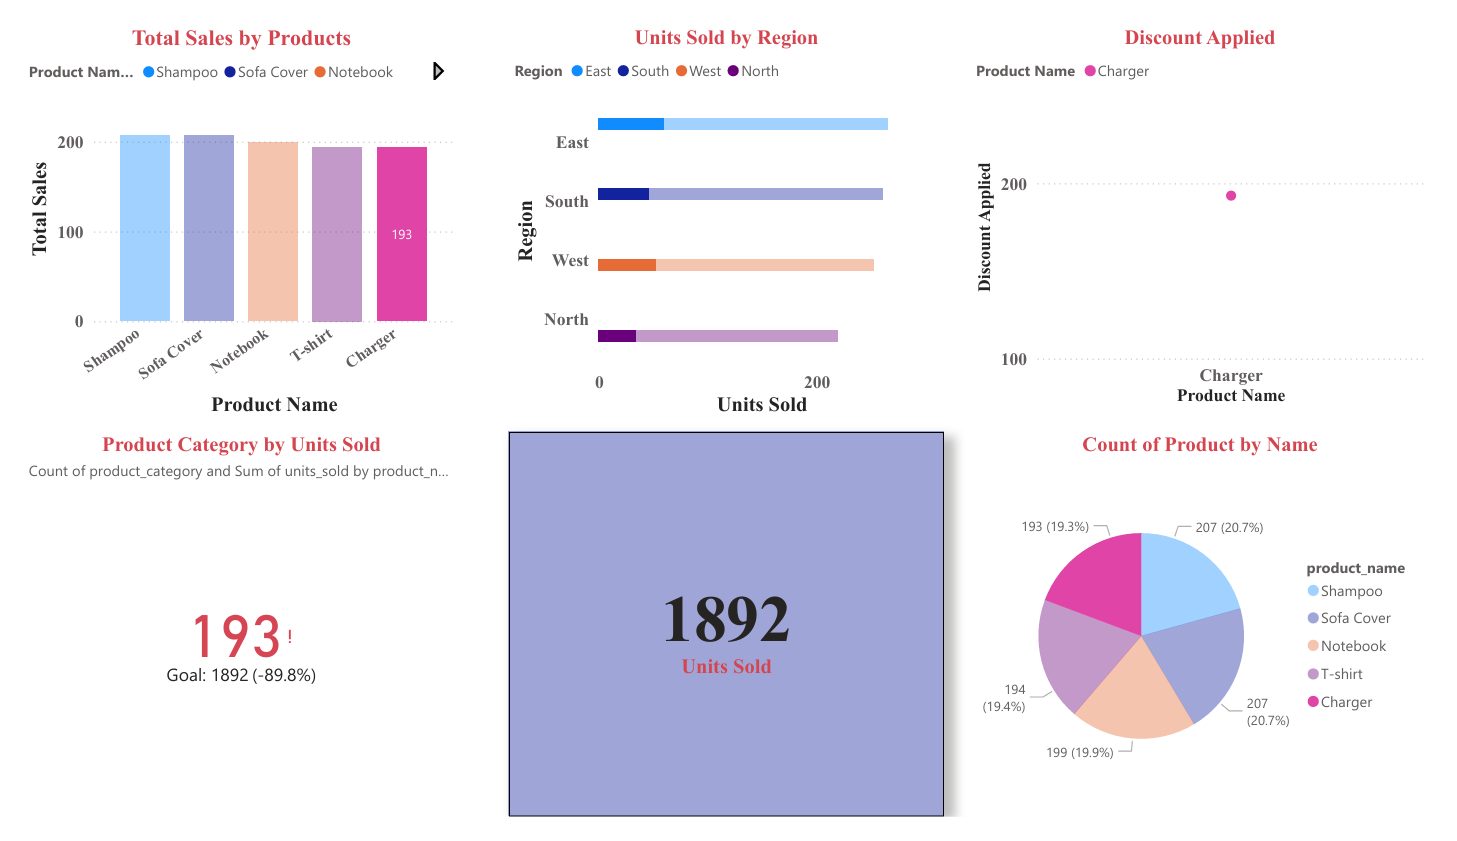

What the dashboard file says about the page in this screenshot:
{"tool":"powerbi","page":{"name":"Page 1","canvas":[1280,720],"ordinal":0},"visuals":[{"type":"columnChart","title":"Total Sales by Products","fields":{"Y":["CountNonNull(Retail_Dataset.total_sale)"],"Category":["Retail_Dataset.product_name"],"Series":["Retail_Dataset.product_name"]},"box":[0,0,396.6,359.5],"z":0},{"type":"clusteredBarChart","title":"Units Sold by Region","fields":{"Category":["Retail_Dataset.store_region"],"Y":["CountNonNull(Retail_Dataset.units_sold)"],"Series":["Retail_Dataset.store_region"]},"box":[441.9,0,396.6,359.5],"z":1000},{"type":"lineChart","title":"Discount Applied","fields":{"Y":["CountNonNull(Retail_Dataset.discount_applied)"],"Category":["Retail_Dataset.product_name"],"Series":["Retail_Dataset.product_name"]},"box":[861.8,0,418.5,349.9],"z":2000},{"type":"card","fields":{"Values":["Sum(Retail_Dataset.units_sold)"]},"box":[441.9,370.5,396.6,349.9],"z":3000},{"type":"kpi","title":"Product Category by Units Sold","fields":{"Indicator":["CountNonNull(Retail_Dataset.product_category)"],"TrendLine":["Retail_Dataset.product_name"],"Goal":["Sum(Retail_Dataset.units_sold)"]},"box":[0,370.5,396.6,349.9],"z":4000},{"type":"pieChart","title":"Count of Product by Name","fields":{"Category":["Retail_Dataset.product_name"],"Y":["CountNonNull(Retail_Dataset.product_name)"]},"box":[862,370,418,350],"z":4001}]}

Visuals, with their boxes in screenshot pixels (x1, y1, x2, y2), scaled from the page's 1280x720 canvas onto the 1457x841 screenshot:
"Total Sales by Products" columnChart: l=0, t=0, r=451, b=420
"Units Sold by Region" clusteredBarChart: l=503, t=0, r=954, b=420
"Discount Applied" lineChart: l=981, t=0, r=1456, b=409
card - Sum(Retail_Dataset.units_sold): l=503, t=433, r=954, b=840
"Product Category by Units Sold" kpi: l=0, t=433, r=451, b=840
"Count of Product by Name" pieChart: l=981, t=432, r=1456, b=840
